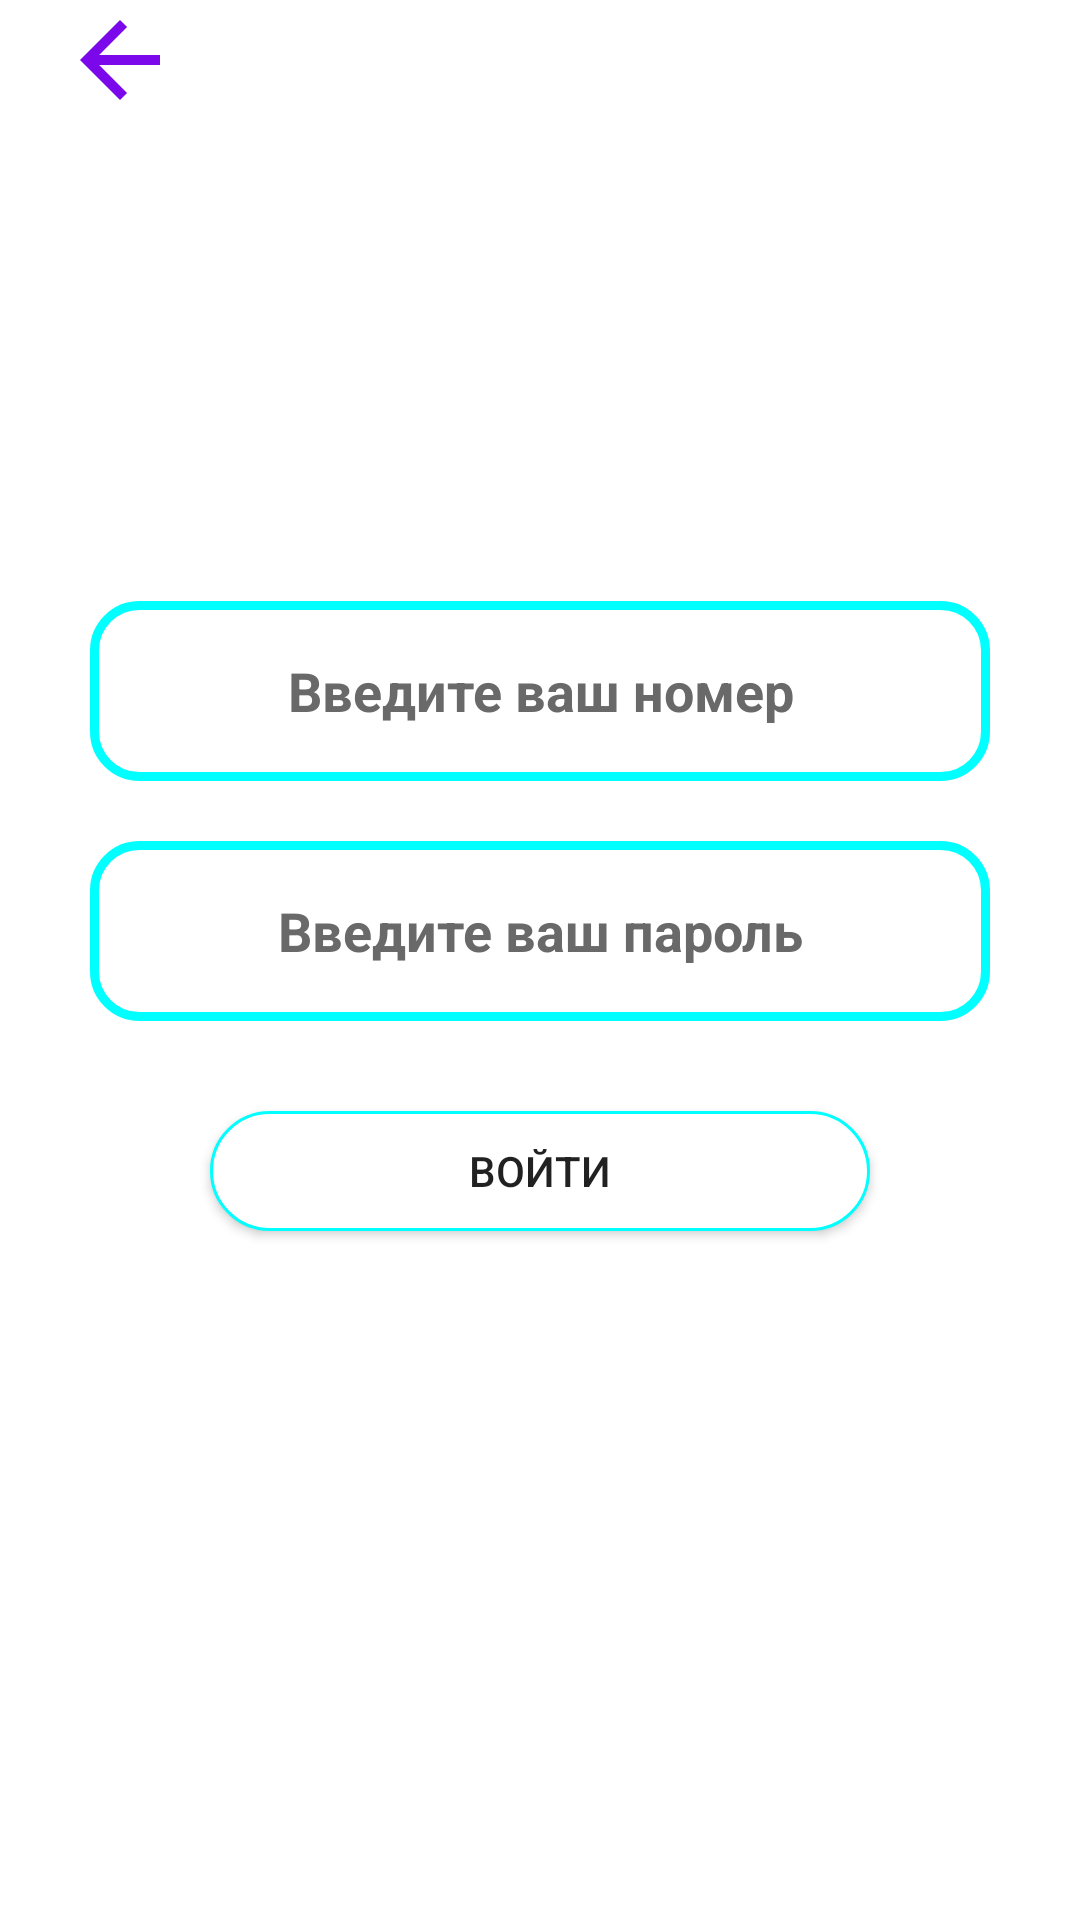

Icon bounding boxes for this 1080x1920 phone screenshot, format bbox=(x1, y1, x2, y2):
arrow back: bbox=(80, 20, 160, 100)
